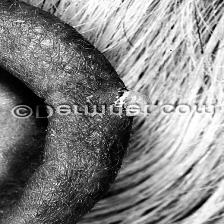Potentially Malignant Skin Tumors: (104, 88, 160, 105)
